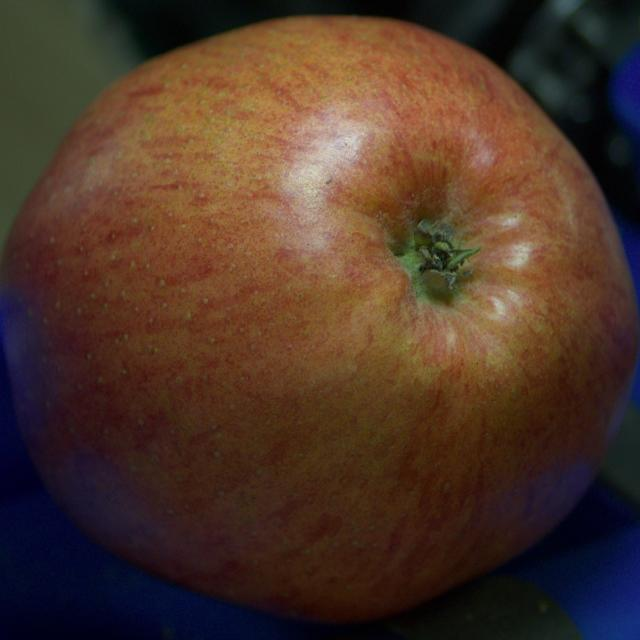apple: (0, 17, 639, 622)
